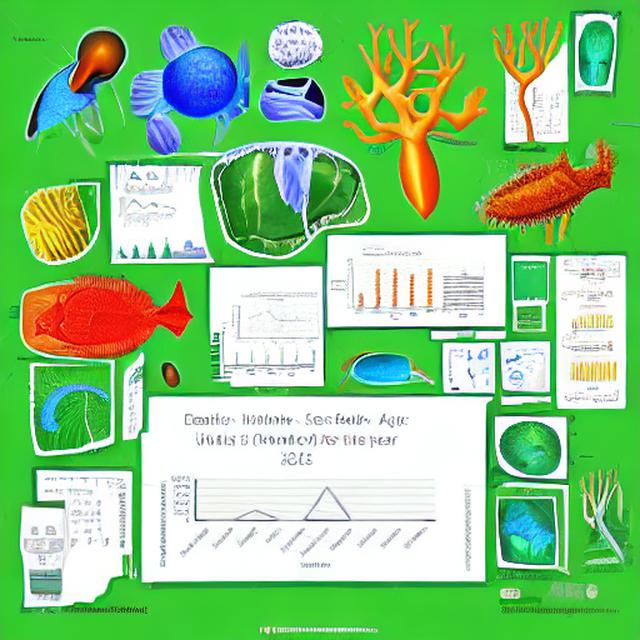Graph: (152, 405, 441, 575), (329, 252, 440, 321), (227, 292, 322, 348), (116, 190, 178, 225), (566, 354, 620, 385)
